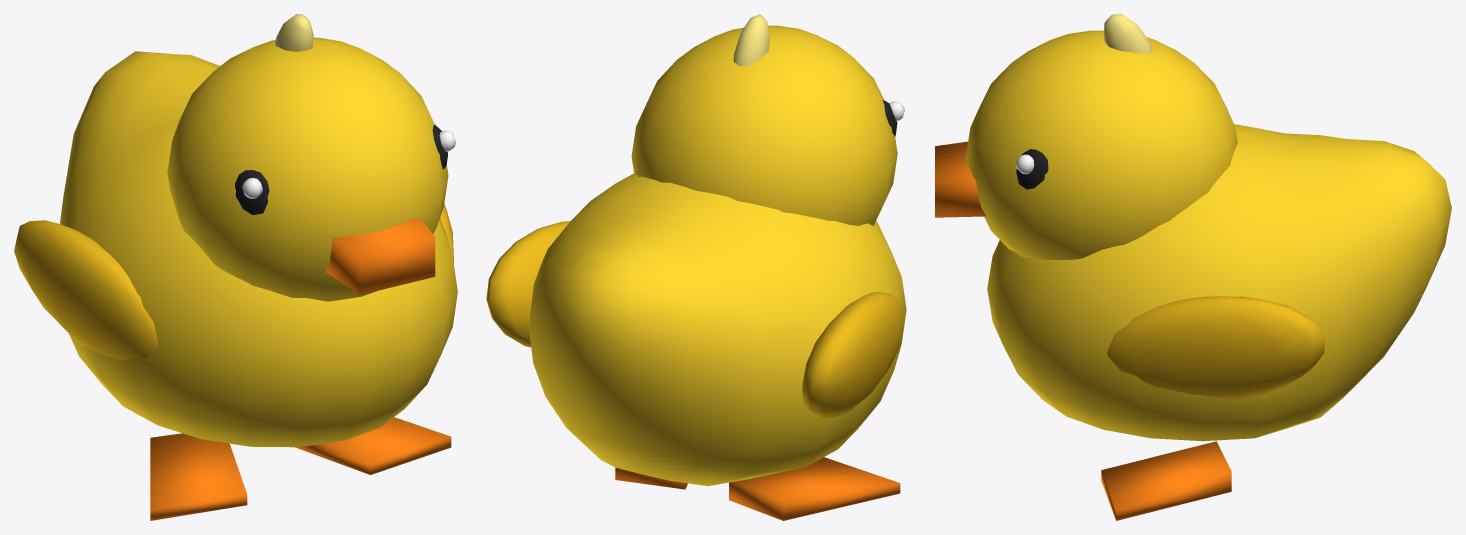
The model's file is player.obj.
3 renders of one model, left to right at view 1: azimuth 30°, elevation 25°; view 2: azimuth 150°, elevation 25°; view 3: azimuth 270°, elevation 25°, orthographic. The views are drawn at different scales.
Visible parts, largest first — view 1: PlayerDuck; view 2: PlayerDuck; view 3: PlayerDuck.
Part boxes in pixels (x1,y1,x2,y2): PlayerDuck: (14, 14, 457, 520); PlayerDuck: (486, 14, 906, 520); PlayerDuck: (935, 14, 1451, 520).
Size of the model in its own units: 1.48 by 1.76 by 1.88.
1 material, 1 textured.
